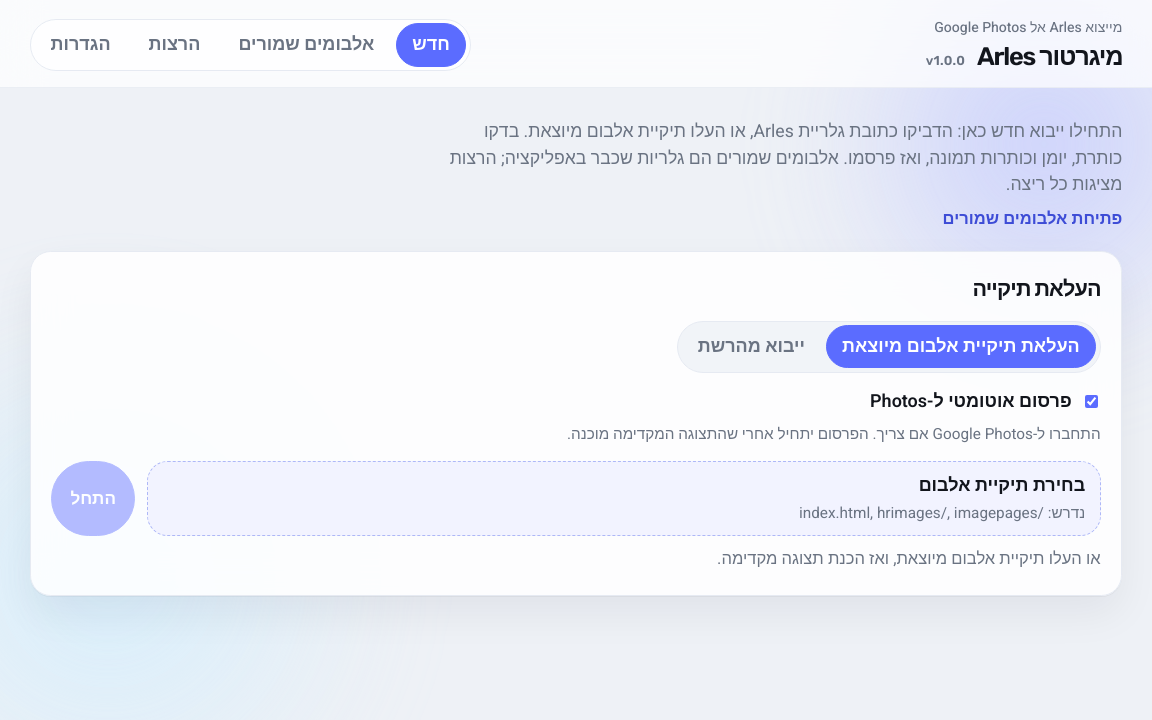
App routes › header navigates between new, albums, and jobs
Expected: the navigation bar named "ניווט ראשי" is shown, [30,19,471,71]
Click the link "אלבומים שמורים". click: {"x": 306, "y": 45}
box: [238,32,374,58]
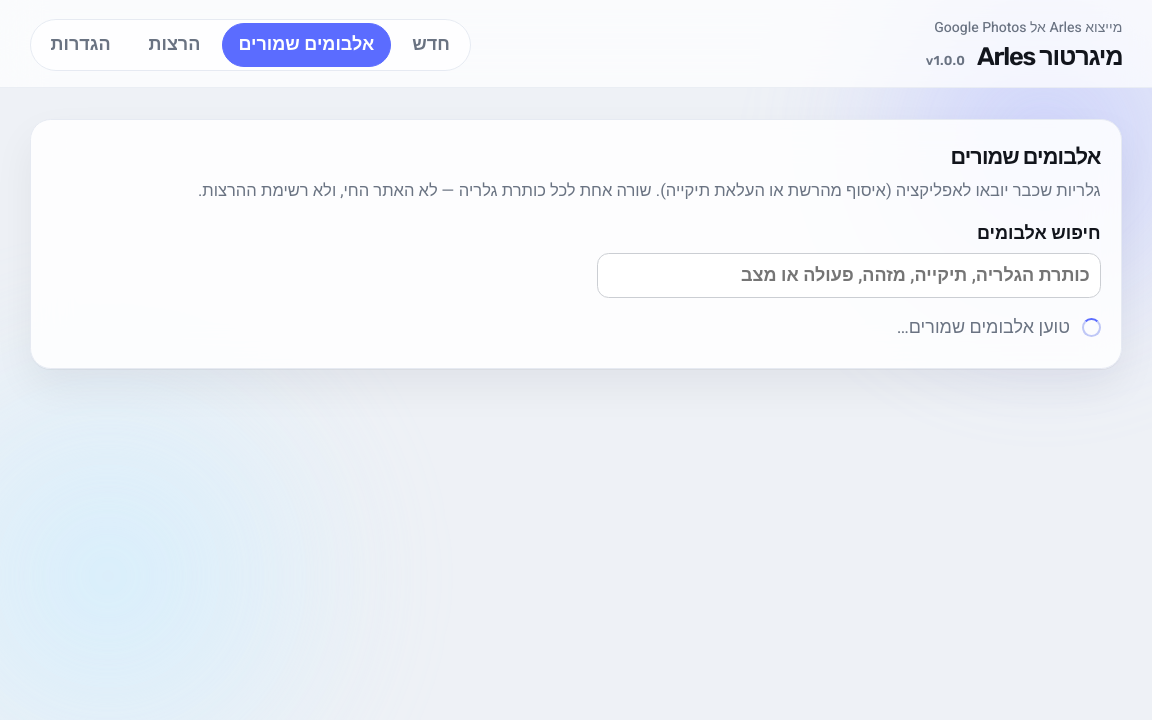
Result: the search field labelled "חיפוש אלבומים" is shown at [597,253,1101,298]
Click the link "הרצות". click: {"x": 175, "y": 45}
box: [149,32,200,58]
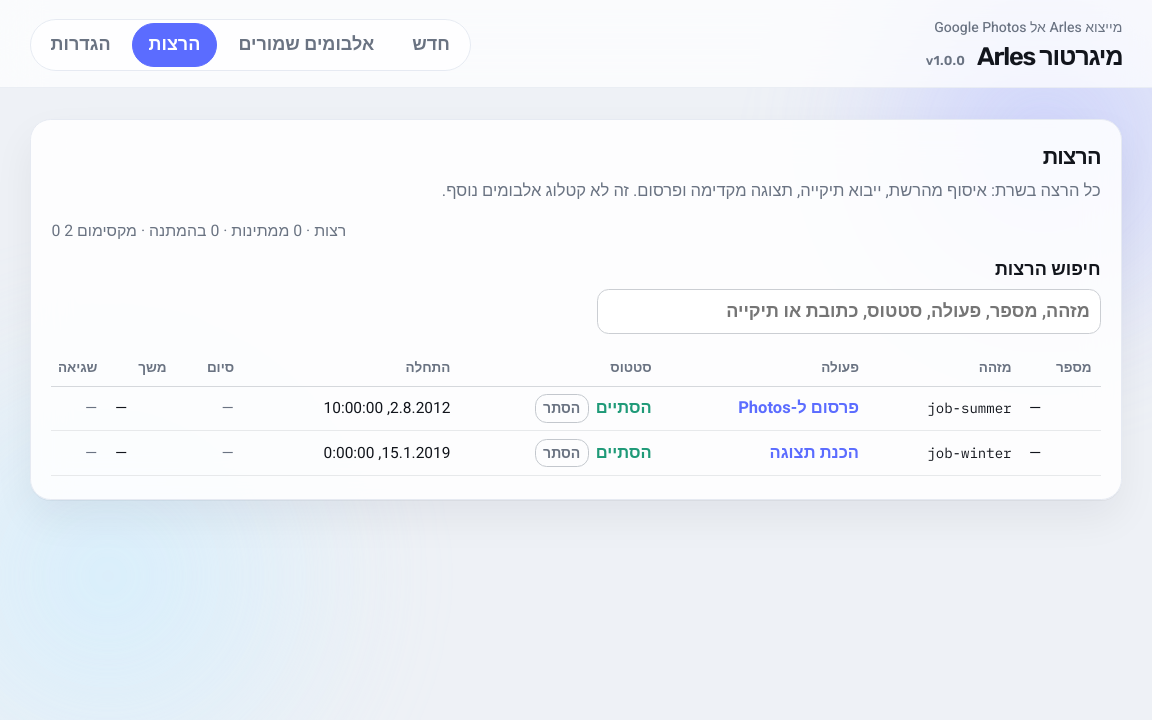
Result: the heading "הרצות" is shown at [1043,144,1101,169]
Click the link "חדש". click: {"x": 431, "y": 45}
box: [412,32,450,58]
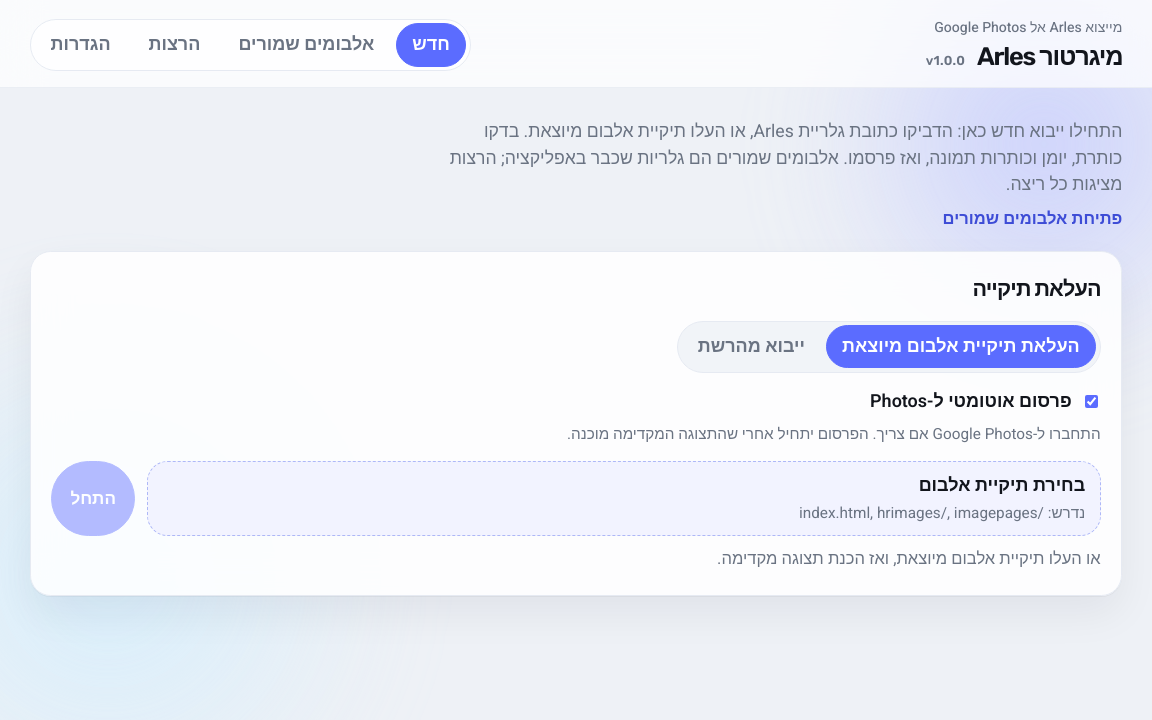
Expected: the label labelled "חיפוש אלבומים" is not shown
Result: the heading "העלאת תיקייה" is shown at [972,276,1101,301]
